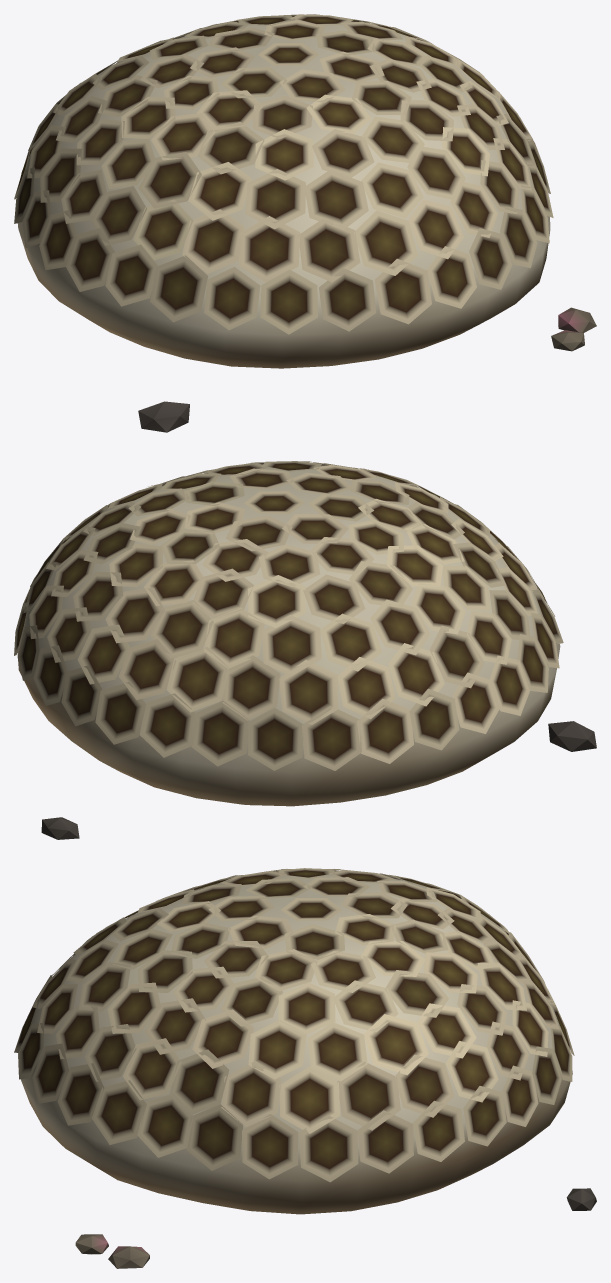
File: Favosites.fbx
3 renders of one model, top to bottom at view 1: azimuth 30°, elevation 25°; view 2: azimuth 150°, elevation 25°; view 3: azimuth 270°, elevation 25°, orthographic.
Parts seen in each view (by area): view 1: Favosites; view 2: Favosites; view 3: Favosites.
Boxes of the visible parts, bbox=[...] form: Favosites: bbox=[14, 14, 596, 432]; Favosites: bbox=[14, 461, 596, 839]; Favosites: bbox=[14, 868, 596, 1268].
Size of the model in its own units: 1.48 by 0.7712 by 1.55.
